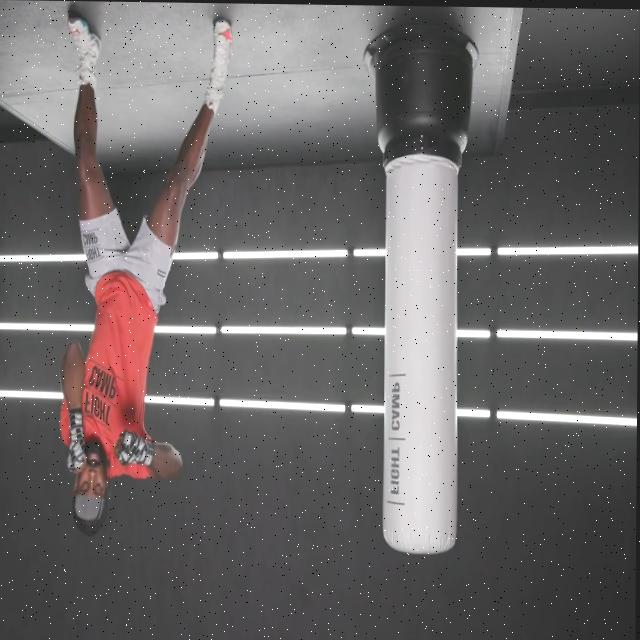Hook: (57, 257, 192, 496)
